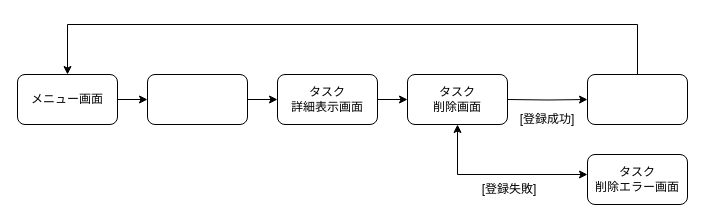
Image size: 705x222. Some labels were removed from this diagram. Here are the shapes that lost their labels. From the top down, the box of each, then its label:
(146, 74, 248, 124): タスク 一覧表示画面
(586, 74, 688, 124): タスク 削除完了画面
